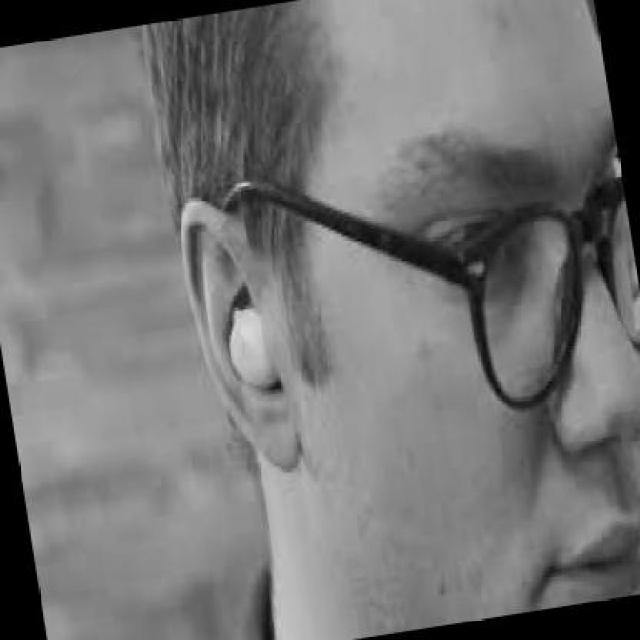earphone: (218, 289, 291, 394)
